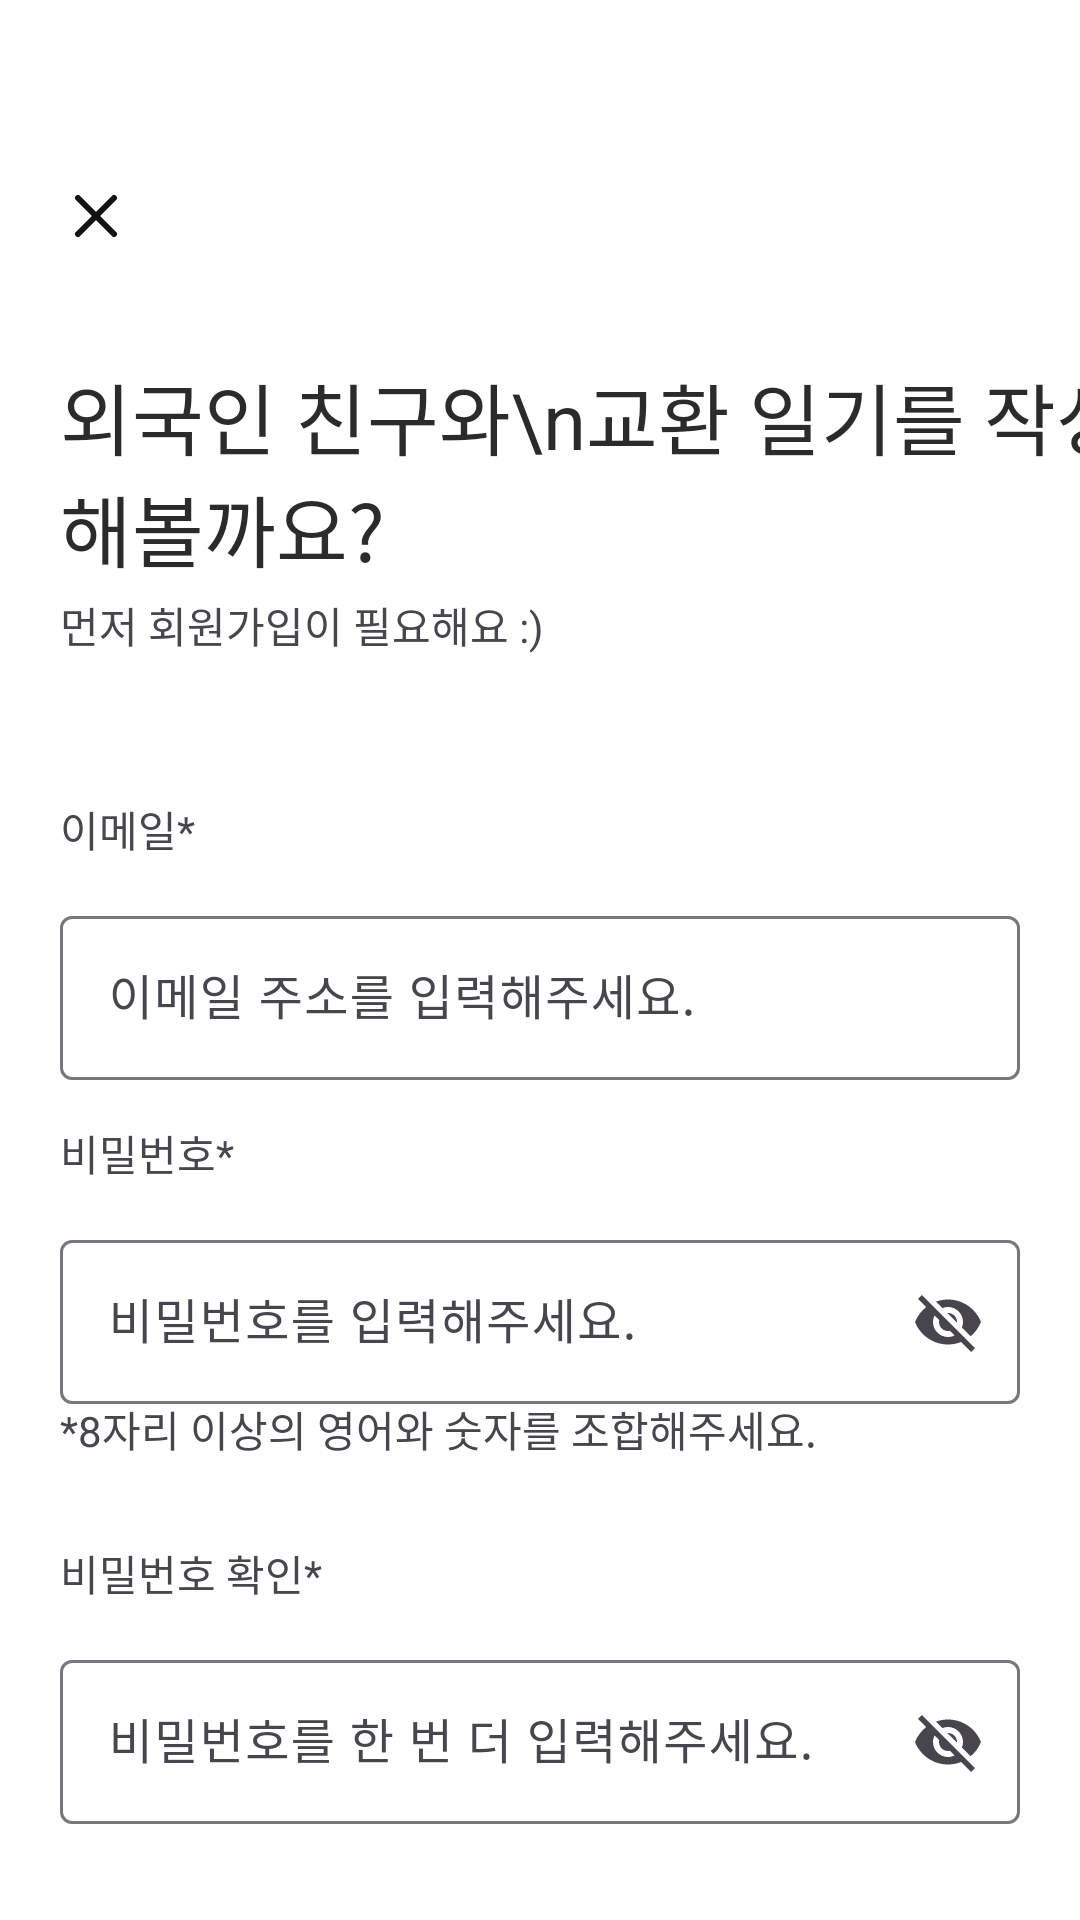

Screen size 1080*1920. Icon name, then its center in pixels as [x,y]:
close md: [96,216]
